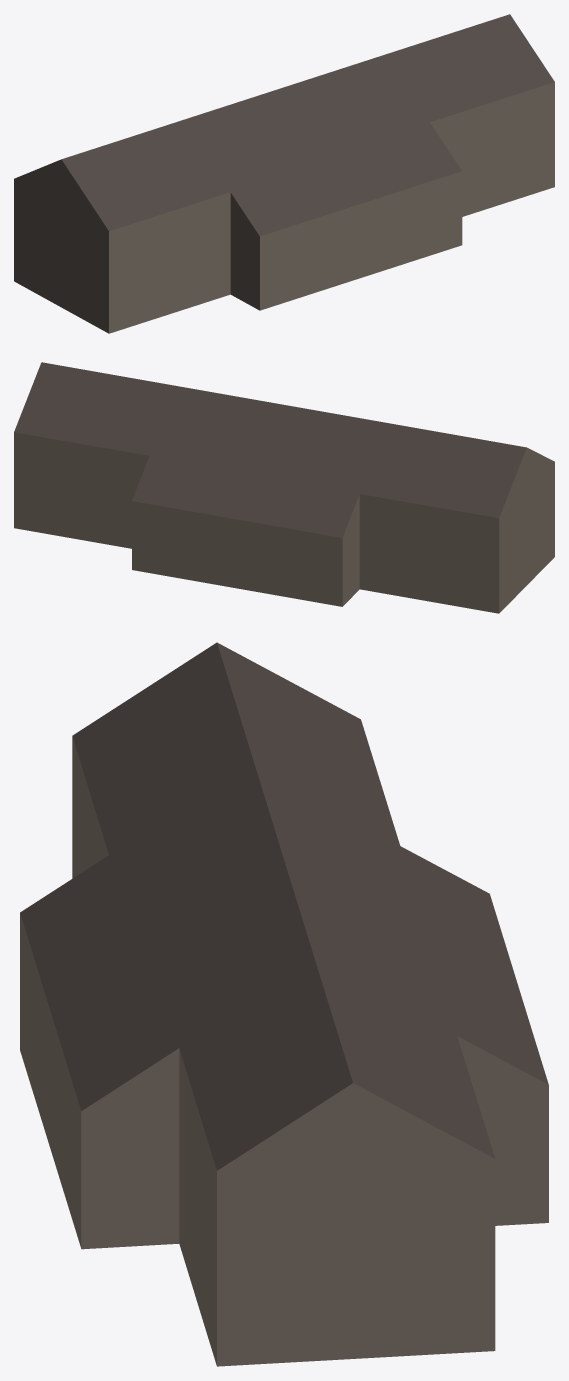
The picture shows the model from 3 angles, top to bottom: view 1: azimuth 30°, elevation 25°; view 2: azimuth 150°, elevation 25°; view 3: azimuth 270°, elevation 25°; orthographic projection. The views are drawn at different scales.
Visible parts, largest first — view 1: HP-w428179913; view 2: HP-w428179913; view 3: HP-w428179913.
Boxes of the visible parts, box(x1,y1,x2,y2) form: HP-w428179913: box(14, 14, 554, 333); HP-w428179913: box(14, 362, 554, 613); HP-w428179913: box(20, 642, 548, 1366).
Size of the model in its own units: 21.28 by 6 by 10.42.
